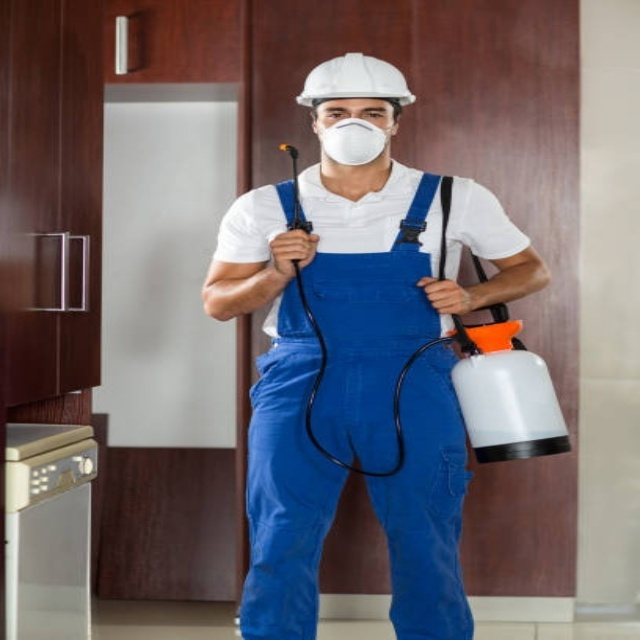Mascara: (318, 117, 389, 166)
Sin_gafas: (320, 102, 394, 125)
Sin_guantes: (269, 229, 320, 271), (415, 277, 470, 314)
